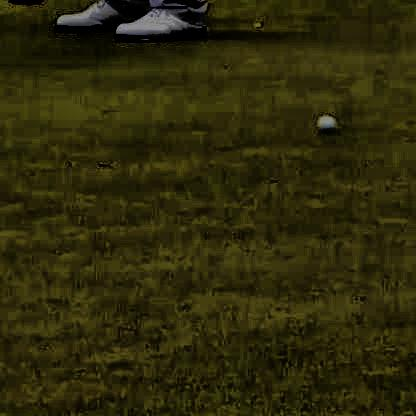golfball: (313, 110, 335, 131)
